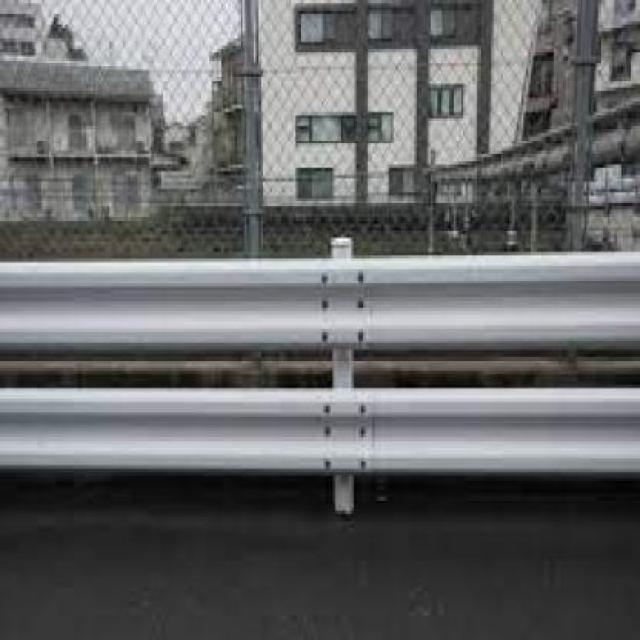Guard rail: (0, 235, 640, 523)
